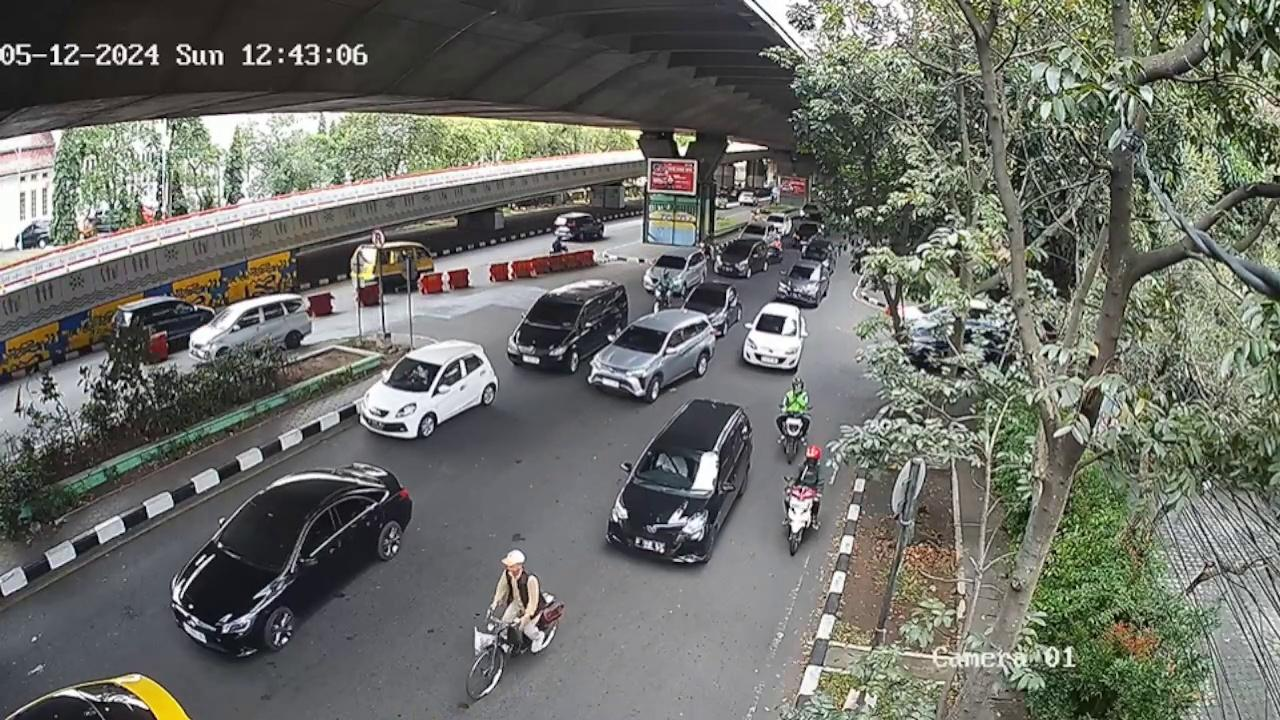pakai: (654, 449, 689, 479)
windshield: (211, 502, 311, 565), (636, 440, 718, 492), (385, 353, 438, 395), (614, 322, 670, 354), (527, 296, 578, 328), (751, 313, 802, 339)
